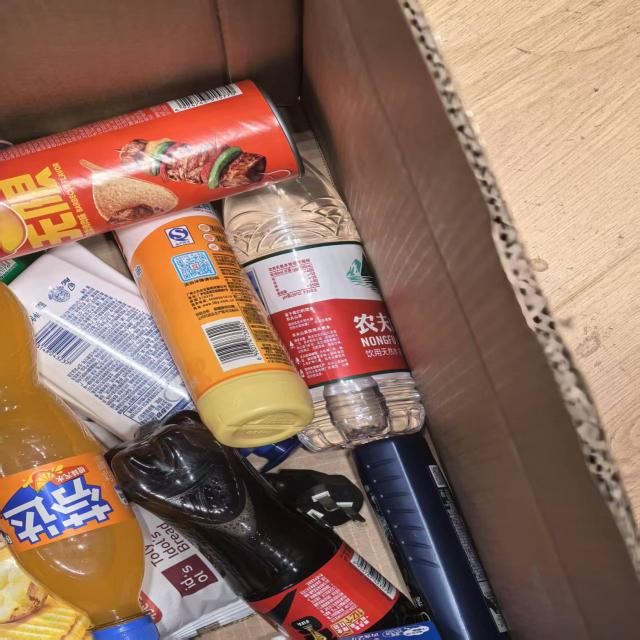orange: (0, 469, 120, 553)
